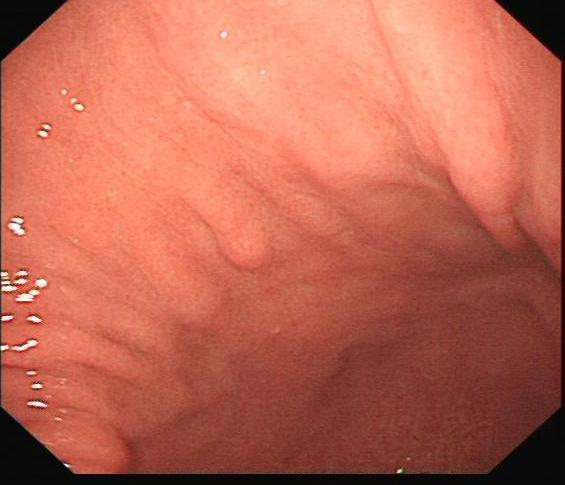Polyp: (212, 221, 270, 276)
